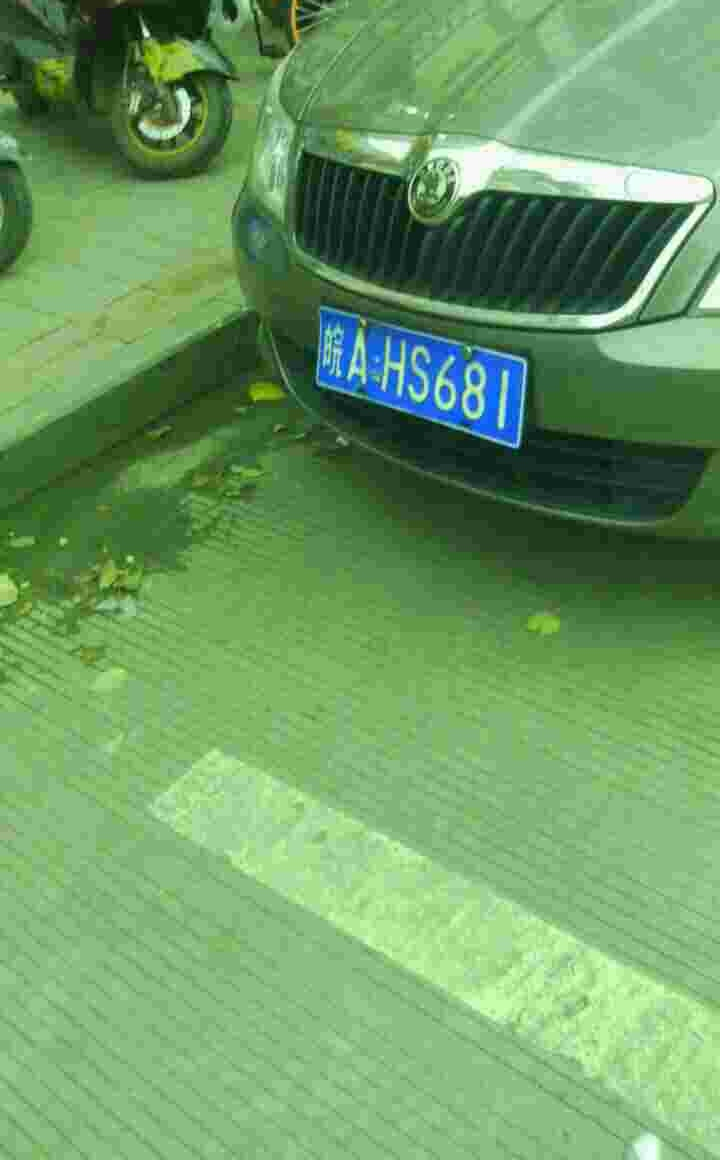license_plate: (314, 306, 524, 448)
